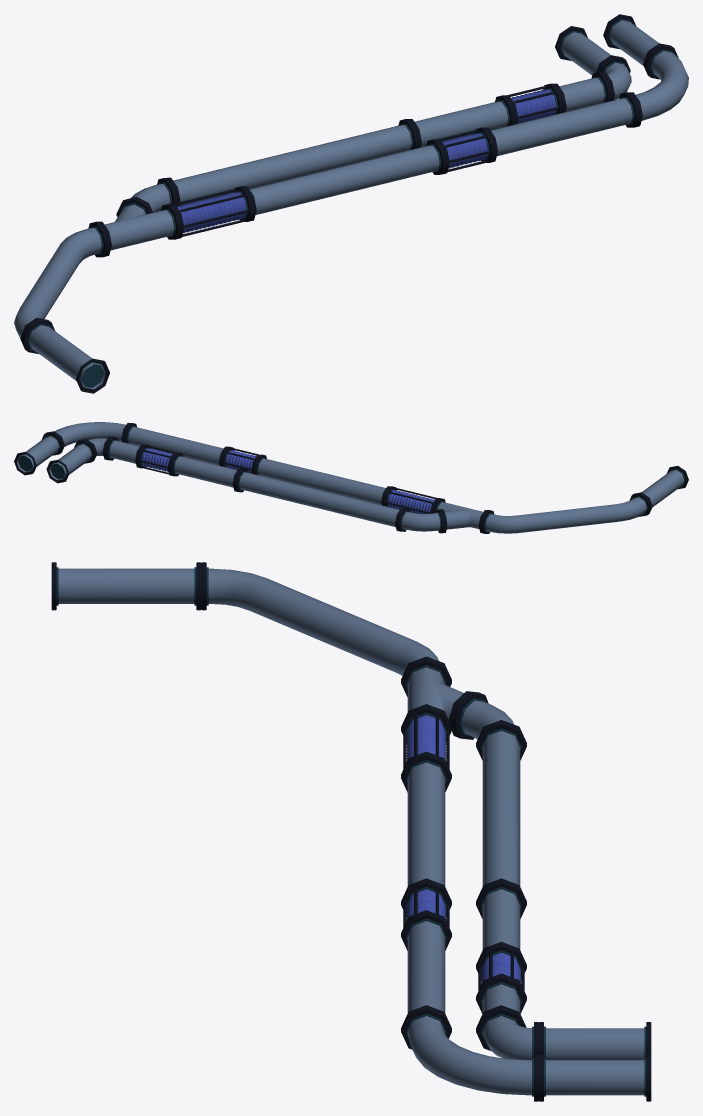
Rendered from PipeComplexSmall_A_15.fbx.
3 views of the same model, one above another, from view 1: azimuth 30°, elevation 25°; view 2: azimuth 150°, elevation 25°; view 3: azimuth 270°, elevation 25° (orthographic). The views are drawn at different scales.
Parts seen in each view (by area): view 1: PipeComplexSmall_A_15.001; view 2: PipeComplexSmall_A_15.001; view 3: PipeComplexSmall_A_15.001.
Part boxes in pixels (left/top/right/bottom): PipeComplexSmall_A_15.001: left=14, top=14, right=688, bottom=393; PipeComplexSmall_A_15.001: left=14, top=422, right=688, bottom=533; PipeComplexSmall_A_15.001: left=51, top=562, right=651, bottom=1101.
Size of the model in its own units: 3.24 by 0.1356 by 1.6.
